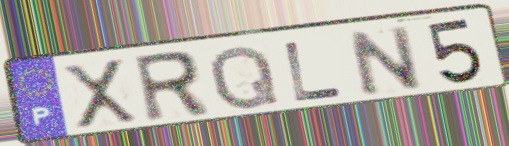5: (425, 16, 485, 86)
L: (282, 39, 347, 104)
N: (344, 23, 426, 99)
Q: (207, 43, 283, 112)
R: (130, 48, 214, 126)
X: (59, 57, 142, 132)
